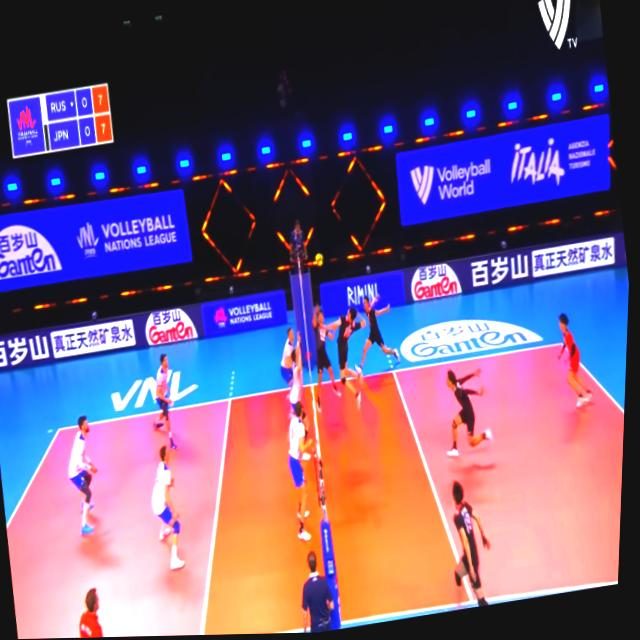player: (445, 479, 509, 612), (146, 439, 200, 578), (316, 303, 381, 416), (282, 402, 328, 543), (438, 365, 499, 463), (65, 414, 112, 541), (555, 313, 602, 420), (308, 296, 350, 415), (145, 351, 189, 451), (355, 291, 405, 376), (283, 329, 319, 444), (74, 585, 117, 638), (276, 320, 306, 388)
